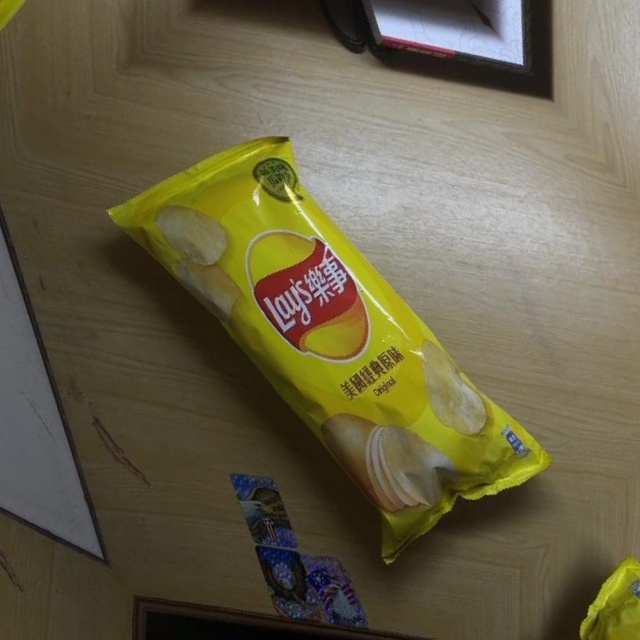Lay-s-original: (96, 91, 552, 582)
